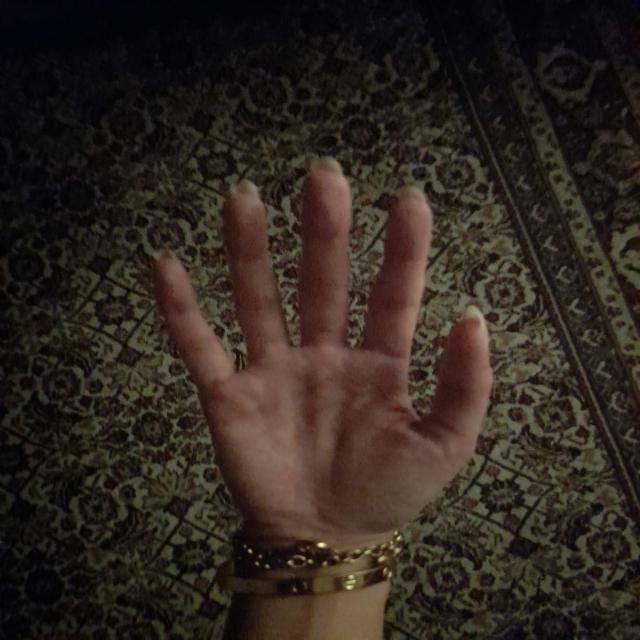Open Hand: (152, 167, 490, 531)
